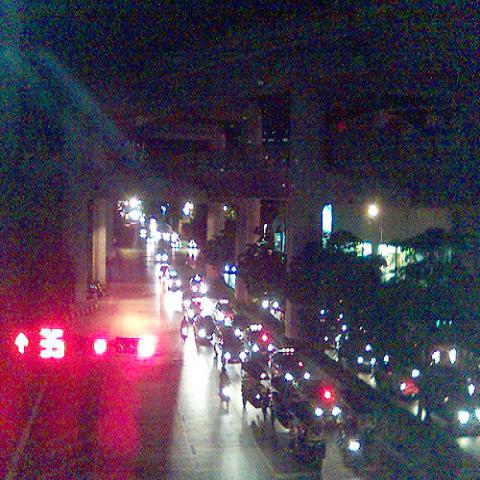car: (154, 236, 479, 426), (296, 378, 357, 433), (420, 365, 471, 408), (394, 344, 430, 388), (213, 328, 246, 368), (272, 352, 309, 385), (246, 326, 273, 356), (214, 299, 238, 326), (193, 314, 216, 342), (243, 361, 270, 380), (399, 379, 420, 398), (189, 275, 206, 298), (165, 272, 183, 290), (160, 266, 171, 280)
motorcycle: (222, 384, 232, 407), (270, 400, 276, 428), (180, 326, 189, 342)
